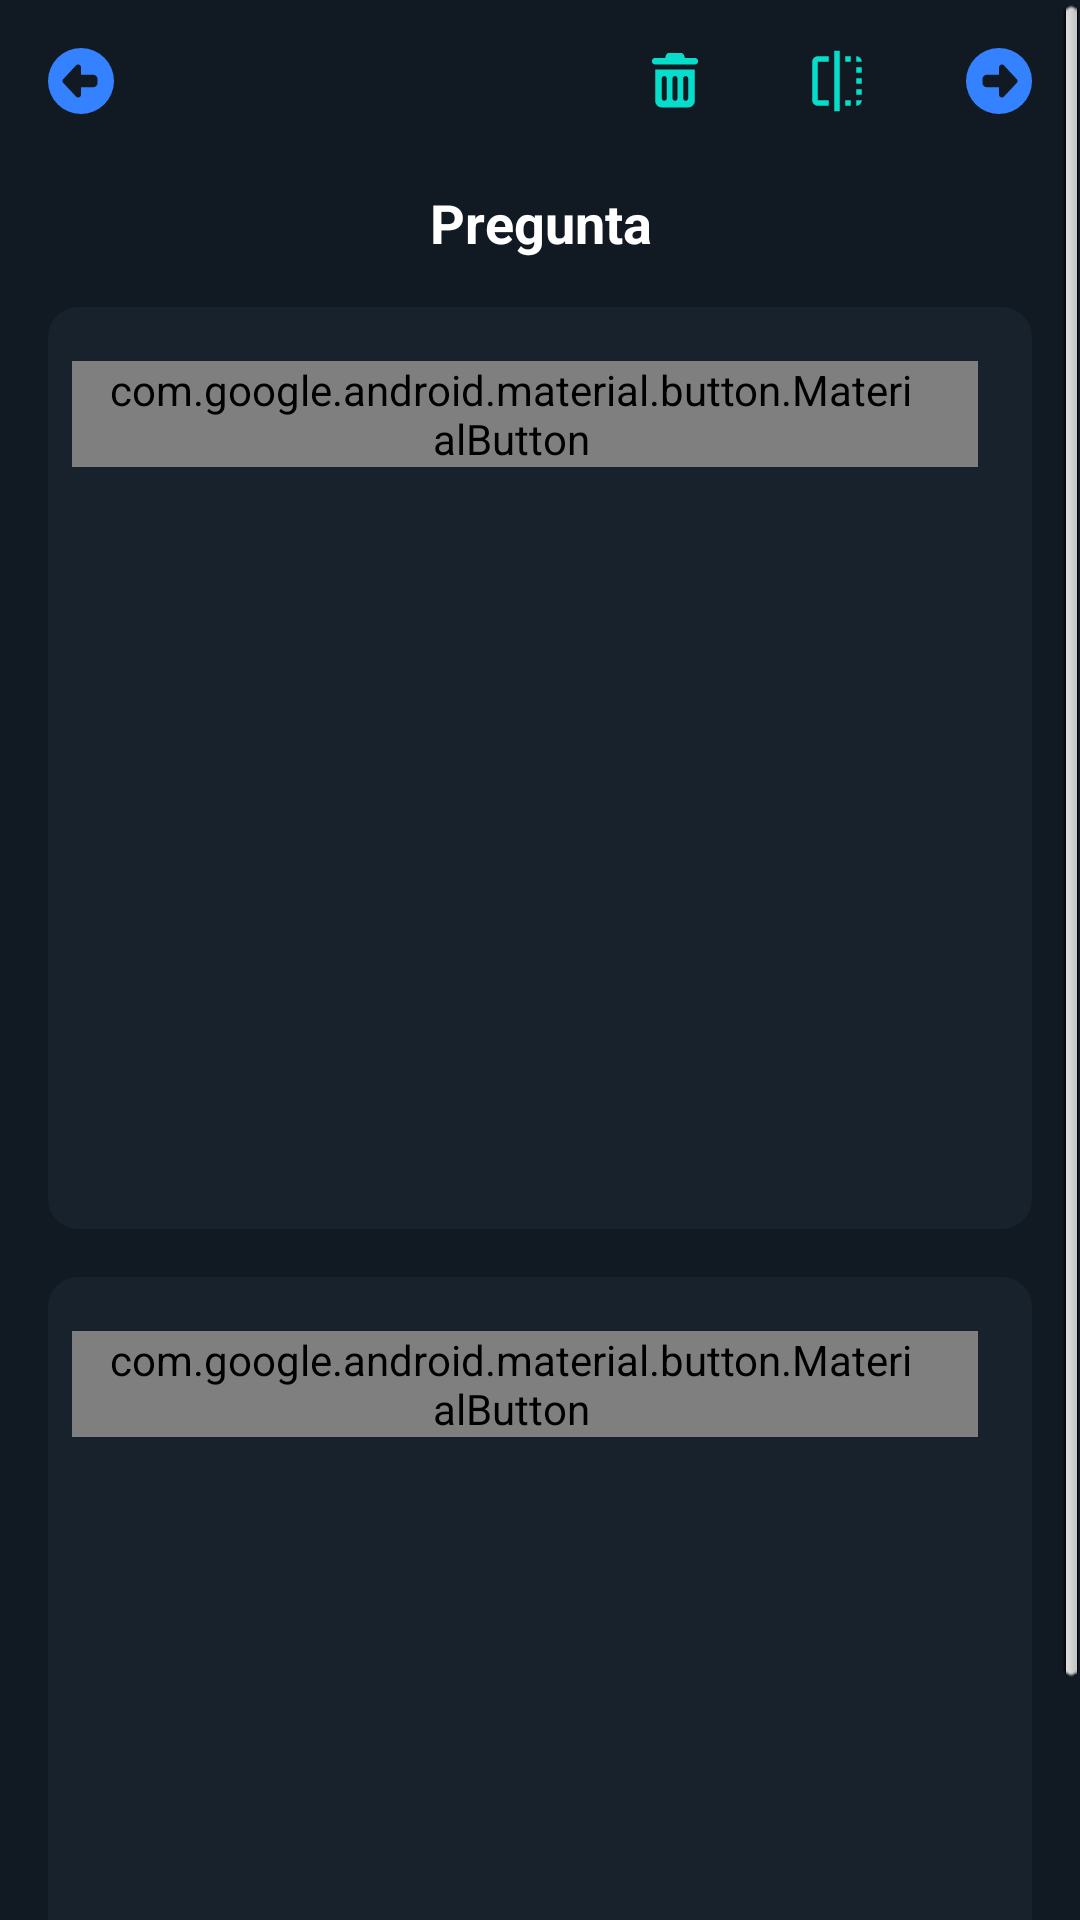

Where to tap for icons on this 1080 × 1920 app screen, as point (x, y):
trash: point (675, 80)
